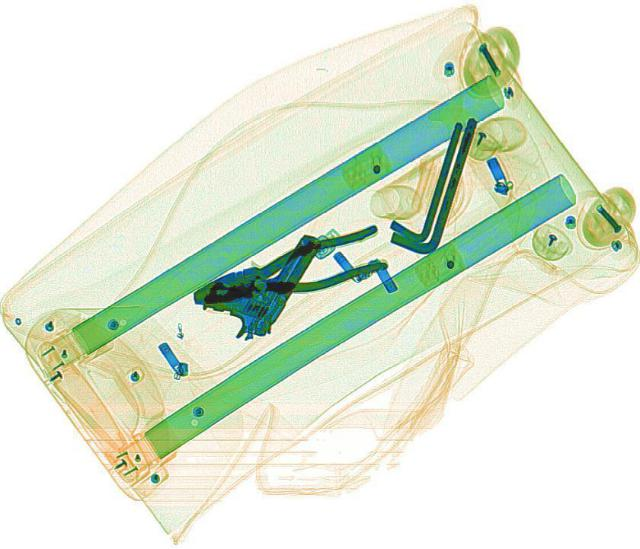Gun: (189, 214, 323, 347)
Pliers: (182, 223, 396, 318)
